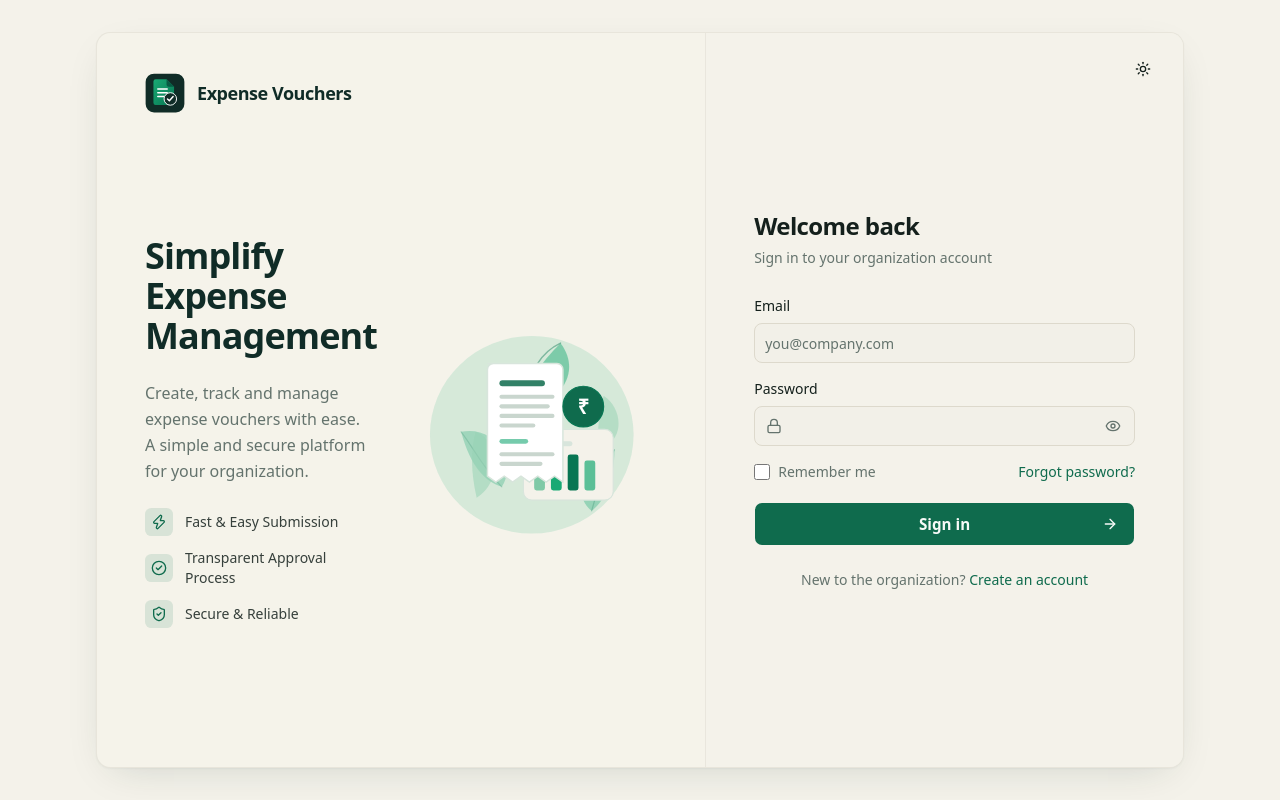
Scenario: login page › blocks submission until required fields are valid
Click the button "Sign in": (945, 524) [754,502,1135,546]
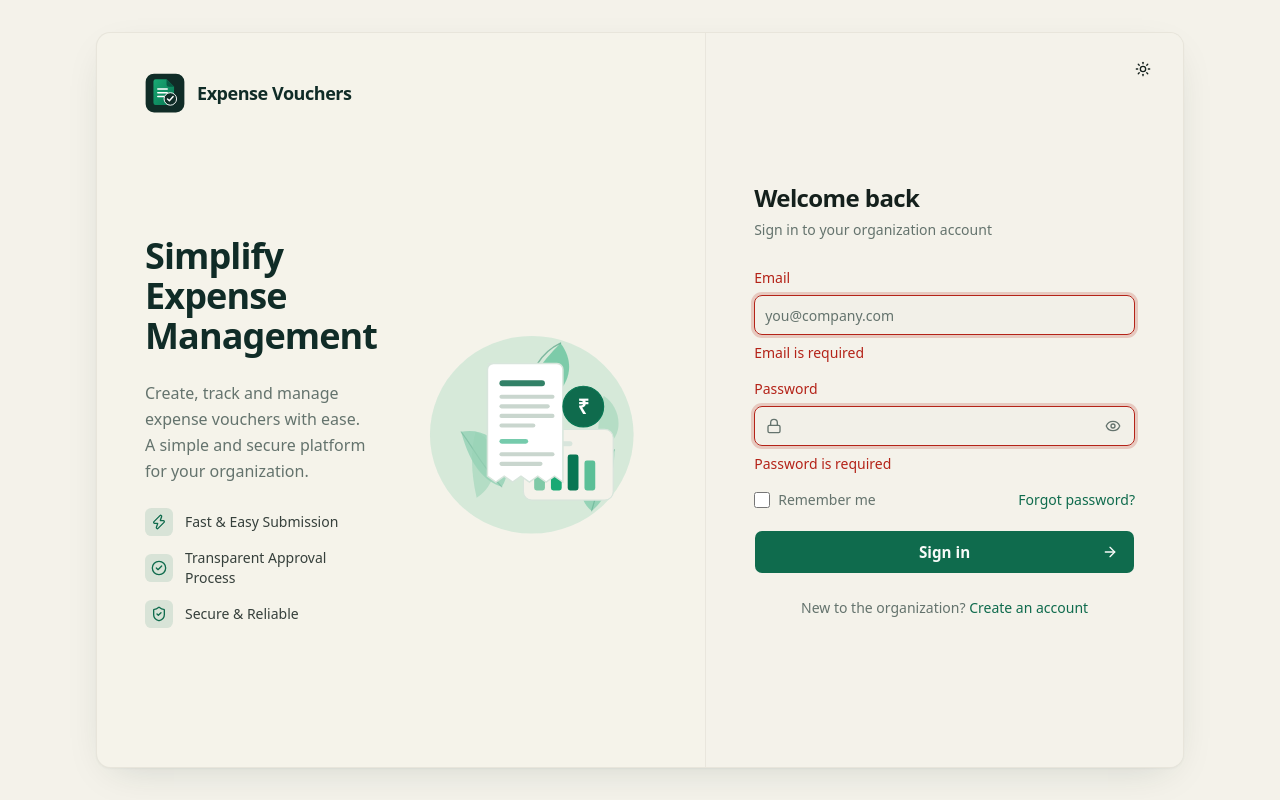
Expected: the text "Email is required" is shown, [754,343,864,362]
Expected: the text "Password is required" is shown, [754,454,891,473]
